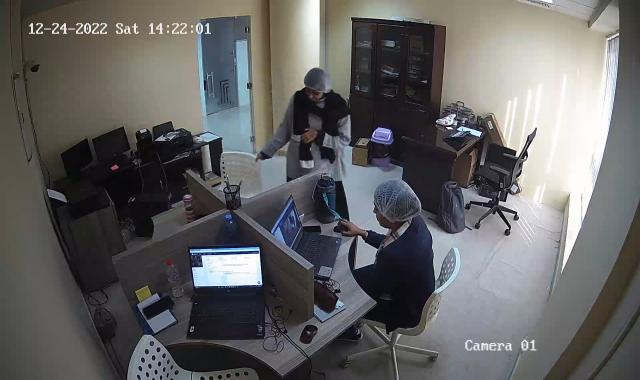hairnet: (375, 180, 420, 229), (302, 68, 332, 103)
